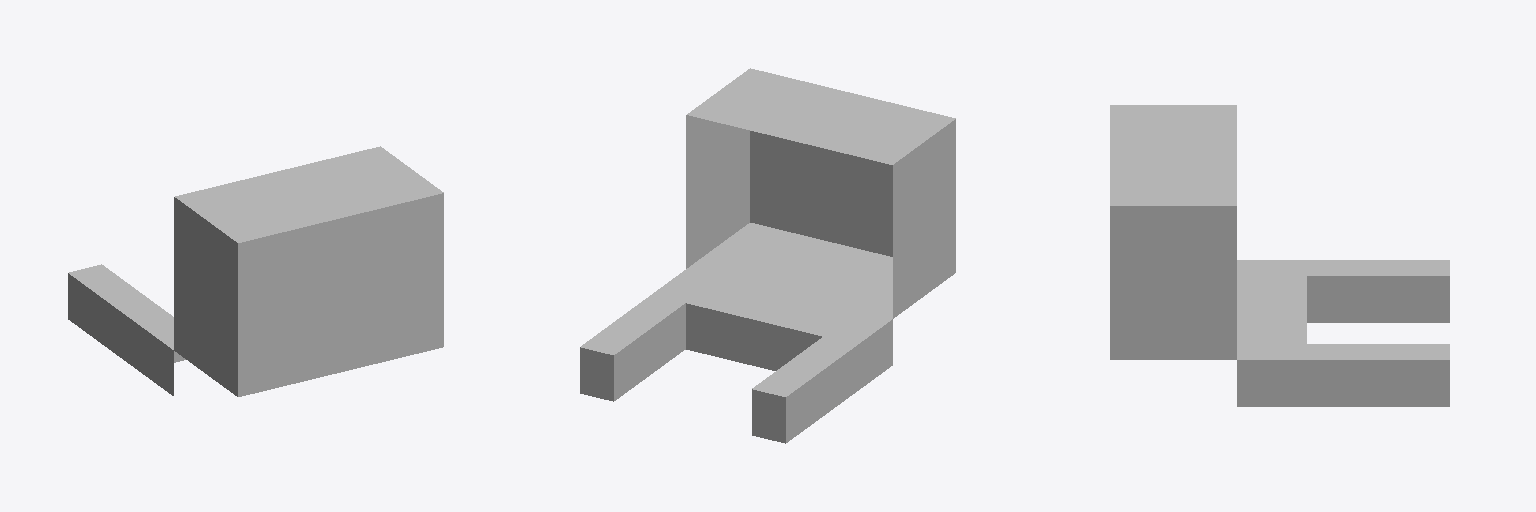
Rendered from Stage.obj.
3 views of the same model, side by side, from view 1: azimuth 30°, elevation 25°; view 2: azimuth 150°, elevation 25°; view 3: azimuth 270°, elevation 25° (orthographic).
Visible parts, largest first — view 1: stage; view 2: stage; view 3: stage.
Boxes of the visible parts, x1=… form: stage: x1=68, y1=146, x2=443, y2=396; stage: x1=580, y1=68, x2=955, y2=443; stage: x1=1110, y1=105, x2=1449, y2=406.
Size of the model in its own units: 28 by 26 by 40.08.